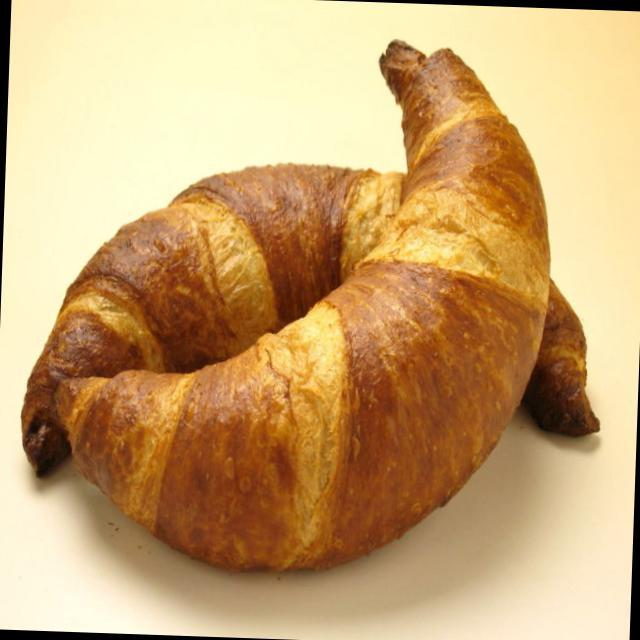Croissant: (39, 14, 575, 591)
